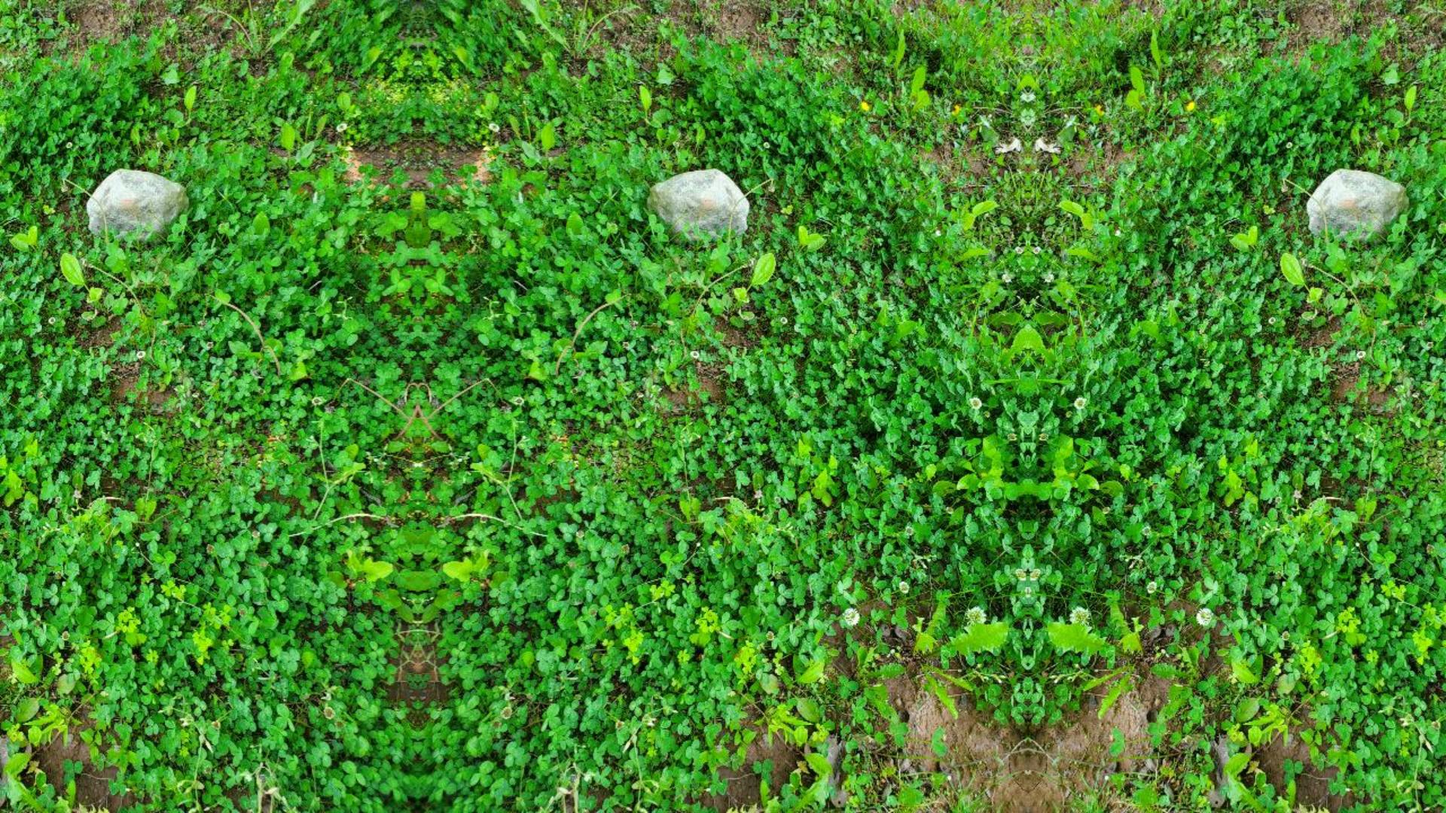rock: (647, 169, 748, 241), (87, 169, 188, 239), (1307, 169, 1408, 239)
